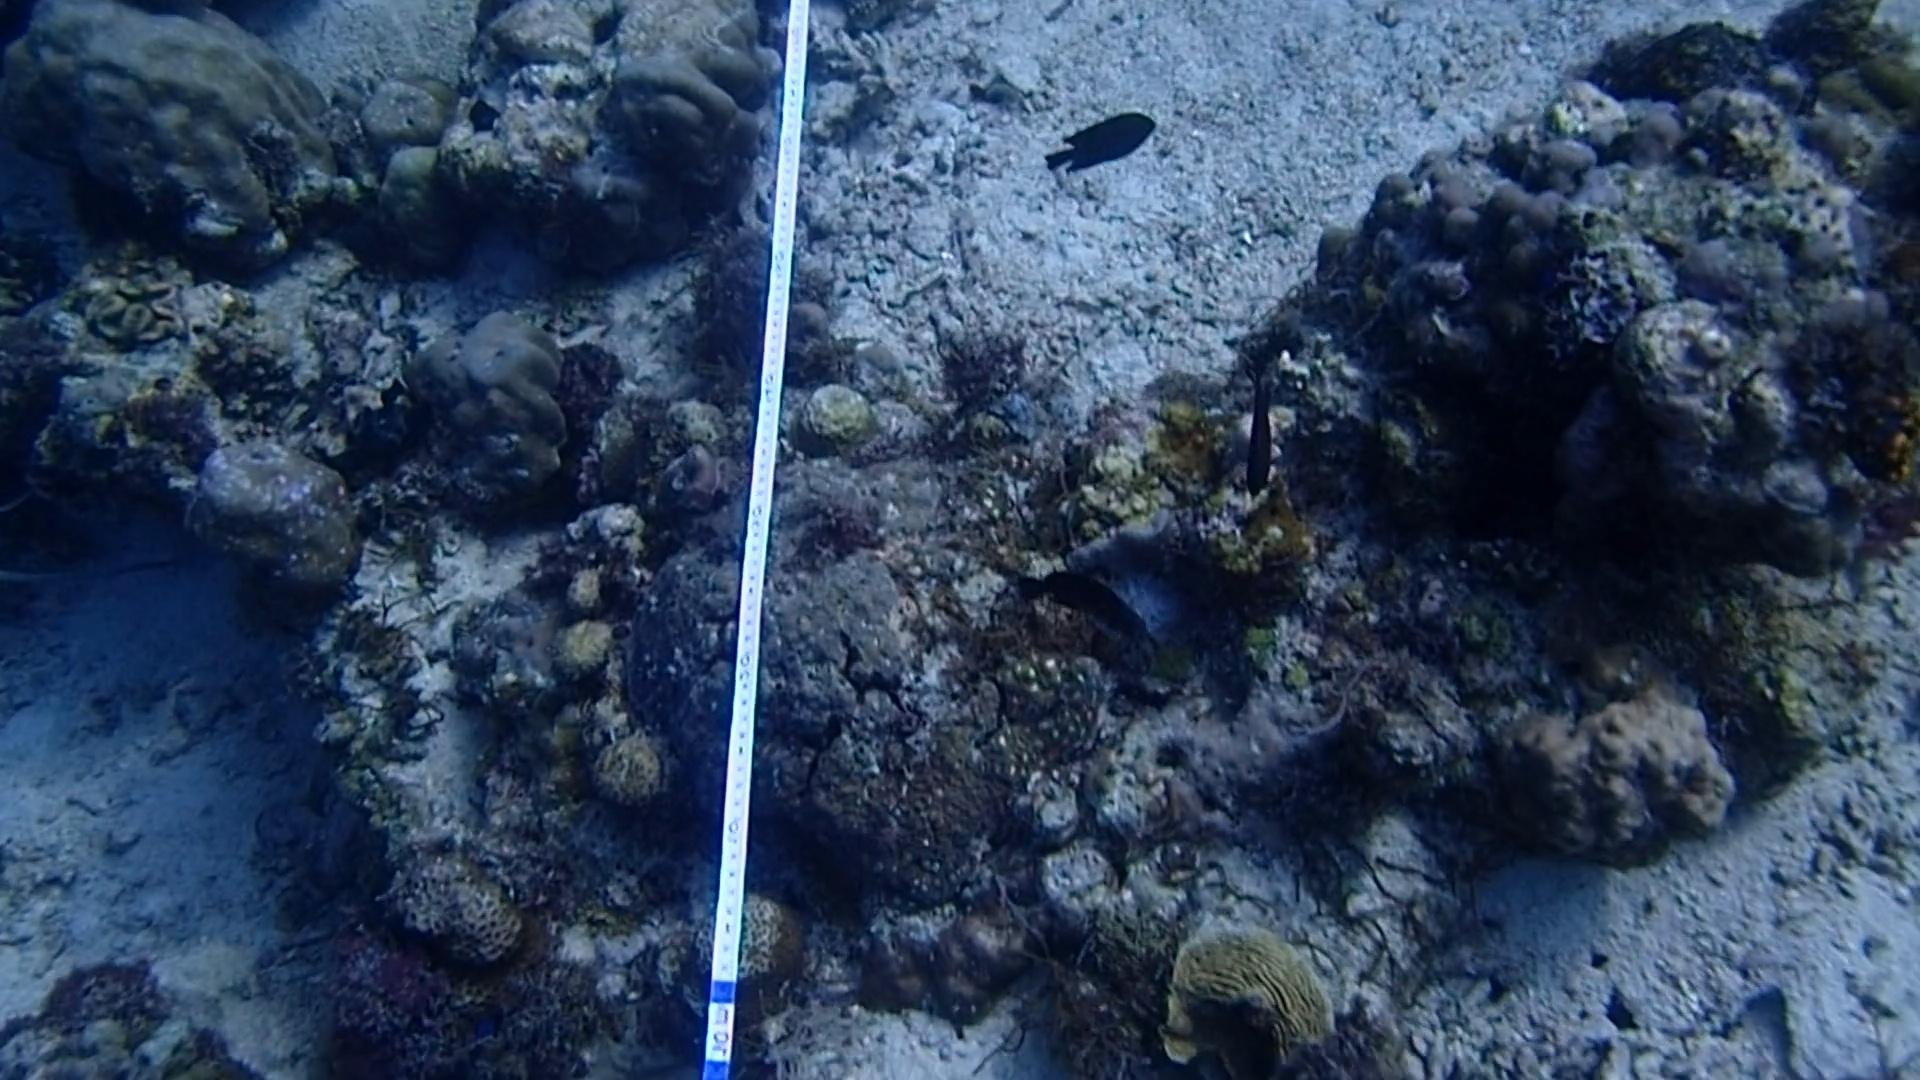Dark Fish: (1221, 336, 1304, 500), (1042, 90, 1167, 196), (1015, 551, 1156, 644)
